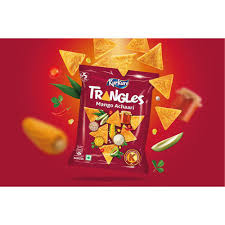kurkure: (106, 78, 132, 89)
plastic: (79, 61, 152, 179)
